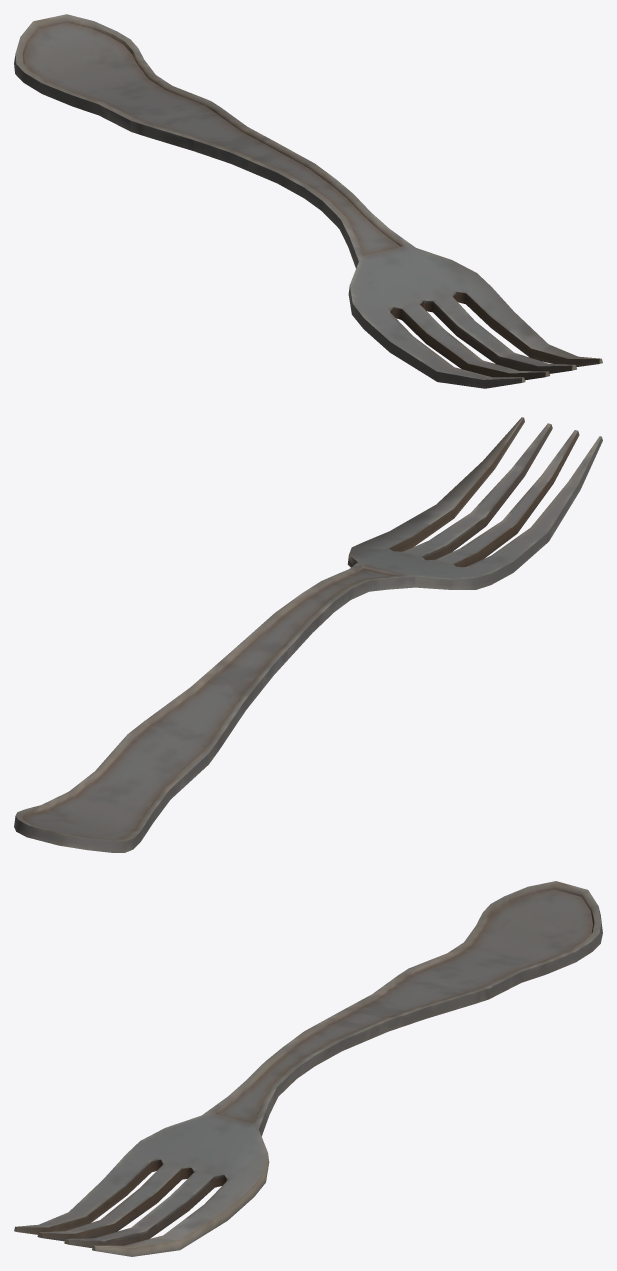
The model's file is SM_Fork.fbx.
The picture shows the model from 3 angles, top to bottom: view 1: azimuth 30°, elevation 25°; view 2: azimuth 150°, elevation 25°; view 3: azimuth 330°, elevation 25°; orthographic projection.
Parts seen in each view (by area): view 1: SM_Fork_LOD0; view 2: SM_Fork_LOD0; view 3: SM_Fork_LOD0.
Part boxes in pixels (<box>): SM_Fork_LOD0: <box>14,14,602,388</box>; SM_Fork_LOD0: <box>14,417,602,852</box>; SM_Fork_LOD0: <box>14,881,602,1256</box>.
Bounding box in the file's own units: 4.36 × 30.5 × 2.11.
1 material, 1 textured.
